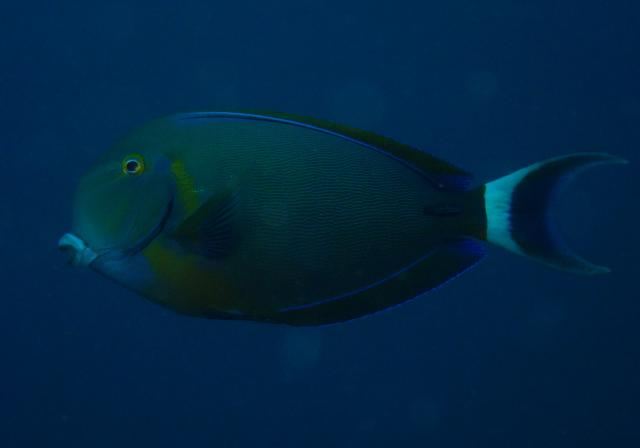Mulut: (38, 214, 104, 294)
Sirip Anal: (262, 221, 498, 337)
Sirip Dada: (142, 167, 270, 277)
Sirip Ekor: (479, 142, 636, 286)
Sirip Perut: (186, 293, 288, 339)
Sirip Punggung: (161, 93, 481, 203)
